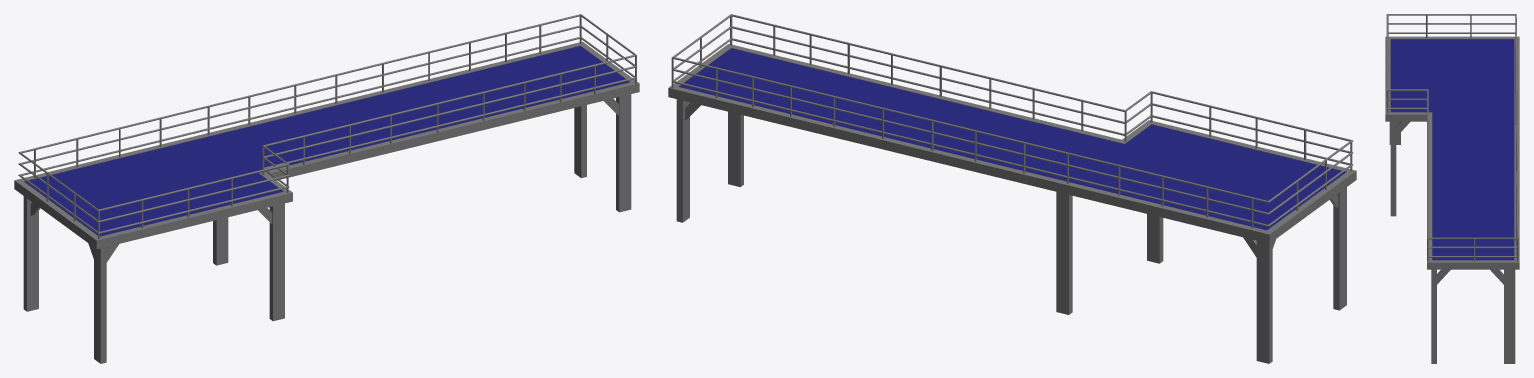
File: Platform_Tray_v1.FBX
3 renders of one model, left to right at view 1: azimuth 30°, elevation 25°; view 2: azimuth 150°, elevation 25°; view 3: azimuth 270°, elevation 25°, orthographic. The views are drawn at different scales.
Parts seen in each view (by area): view 1: Platform_tray; view 2: Platform_tray; view 3: Platform_tray.
Boxes of the visible parts, x1,y1,x2,y2 form: Platform_tray: (14,14,639,363); Platform_tray: (668,14,1356,363); Platform_tray: (1385,14,1519,363).
Bounding box in the file's own units: 758 × 199 × 190.
